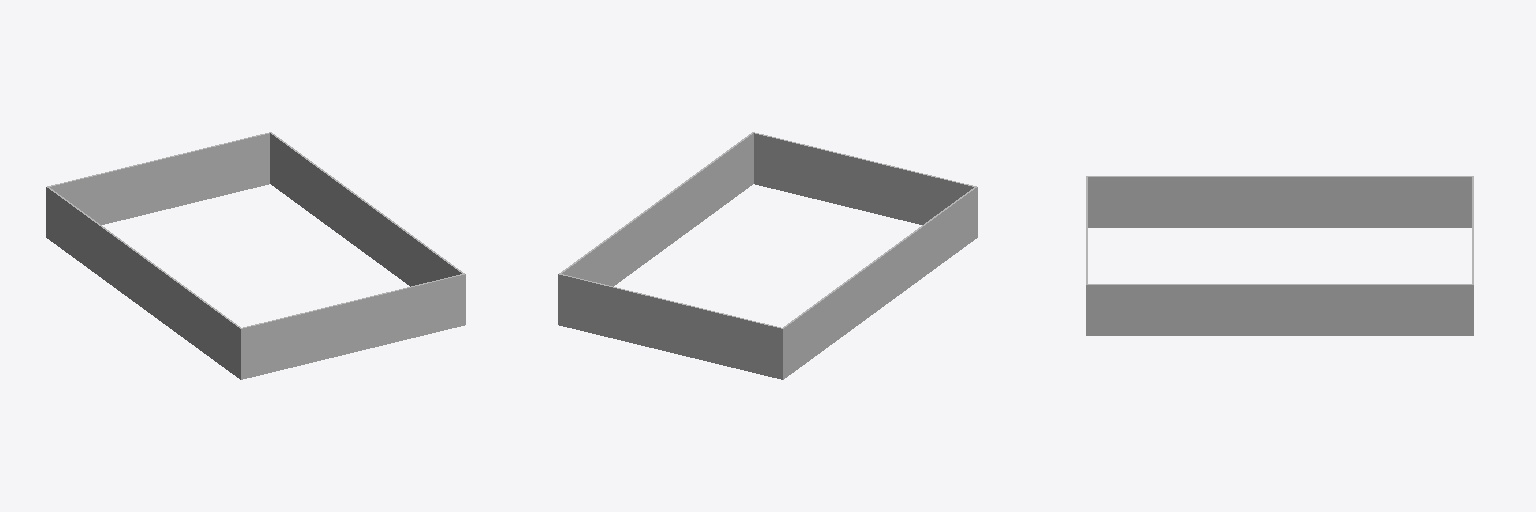
Rendered from walls.obj.
The picture shows the model from 3 angles: view 1: azimuth 30°, elevation 25°; view 2: azimuth 150°, elevation 25°; view 3: azimuth 270°, elevation 25°; orthographic projection.
Parts seen in each view (by area): view 1: walls_Mesh; view 2: walls_Mesh; view 3: walls_Mesh.
Part boxes in pixels (x1,y1,x2,y2): walls_Mesh: (46, 132, 465, 379); walls_Mesh: (558, 132, 977, 379); walls_Mesh: (1086, 176, 1473, 335).
Size of the model in its own units: 11.94 by 2.59 by 17.89.